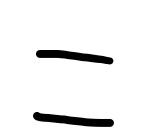eqv: (33, 50, 114, 128)
